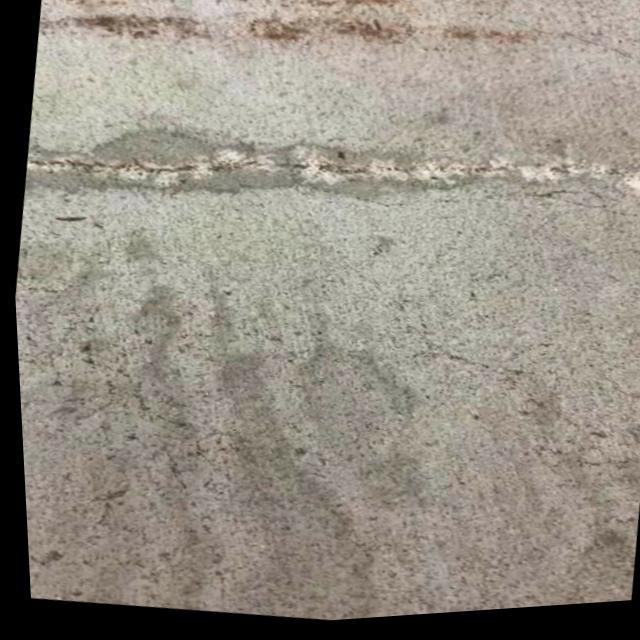Crack: (22, 78, 640, 270), (65, 0, 474, 92)
